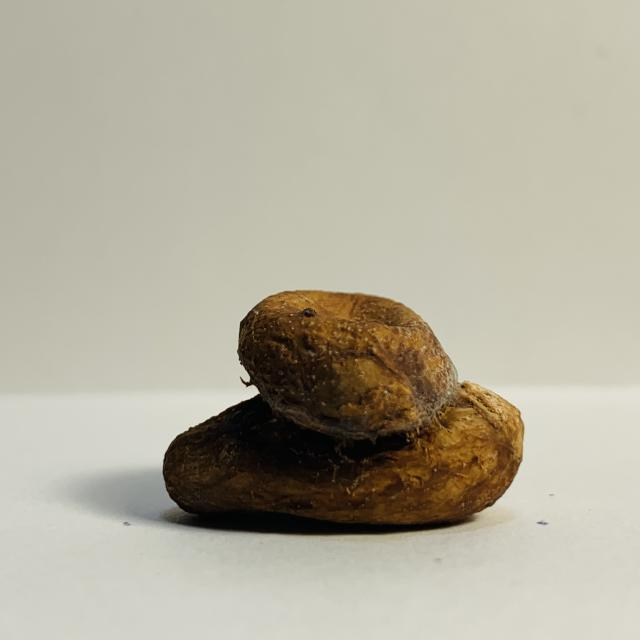Agglomerated_cocoabeans: (3, 261, 566, 567)
